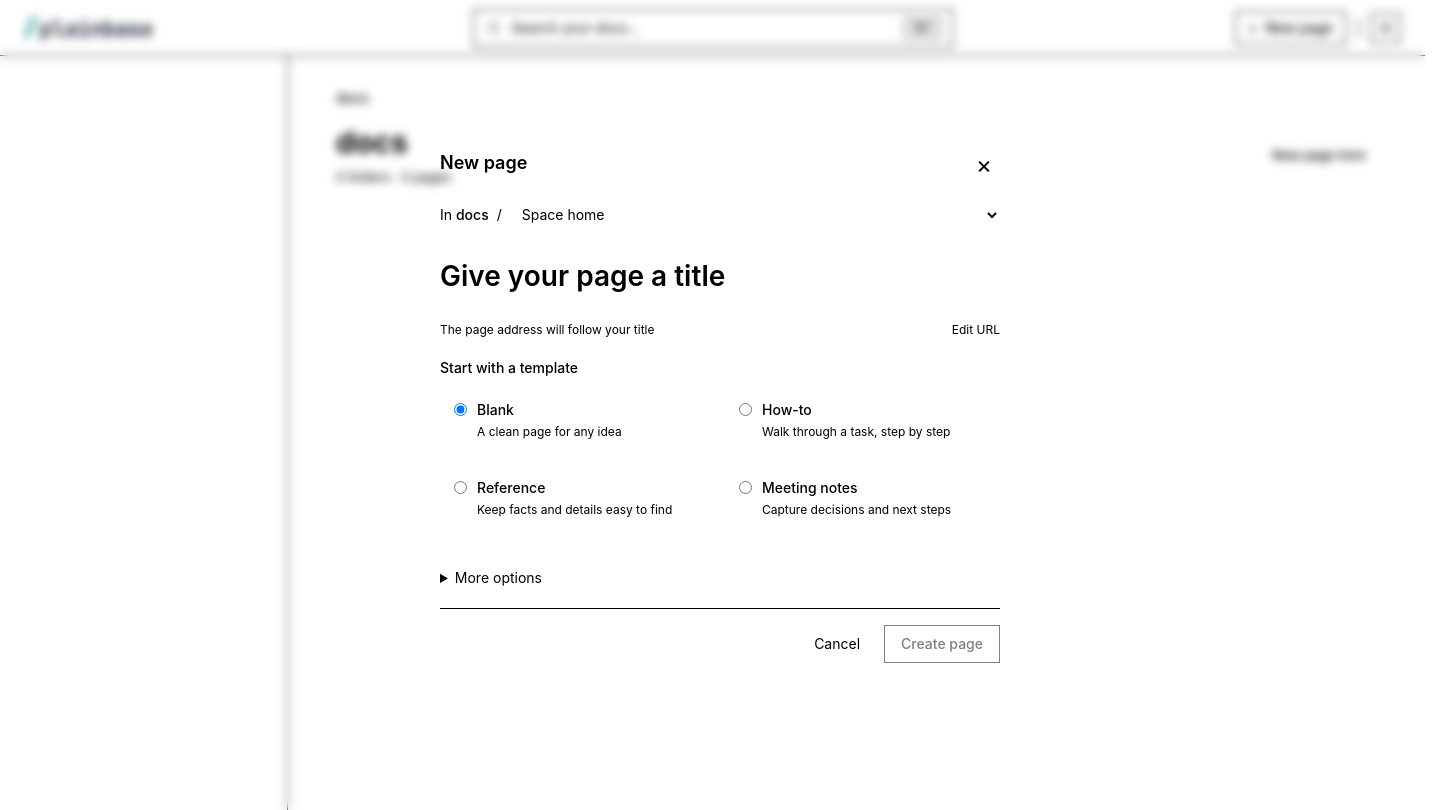
Test: W6 new-page creation › a created-but-unindexed 201 shows the warning and does NOT navigate into a maybe-404 route (FIX 3)
Expected: the element that starts with "New page" is shown, top-left (440, 147), bottom-right (1000, 663)
Type "My New Page" into the field with placeholder "Give your page a title" at (720, 276), box top-left (440, 251), bottom-right (1000, 302)
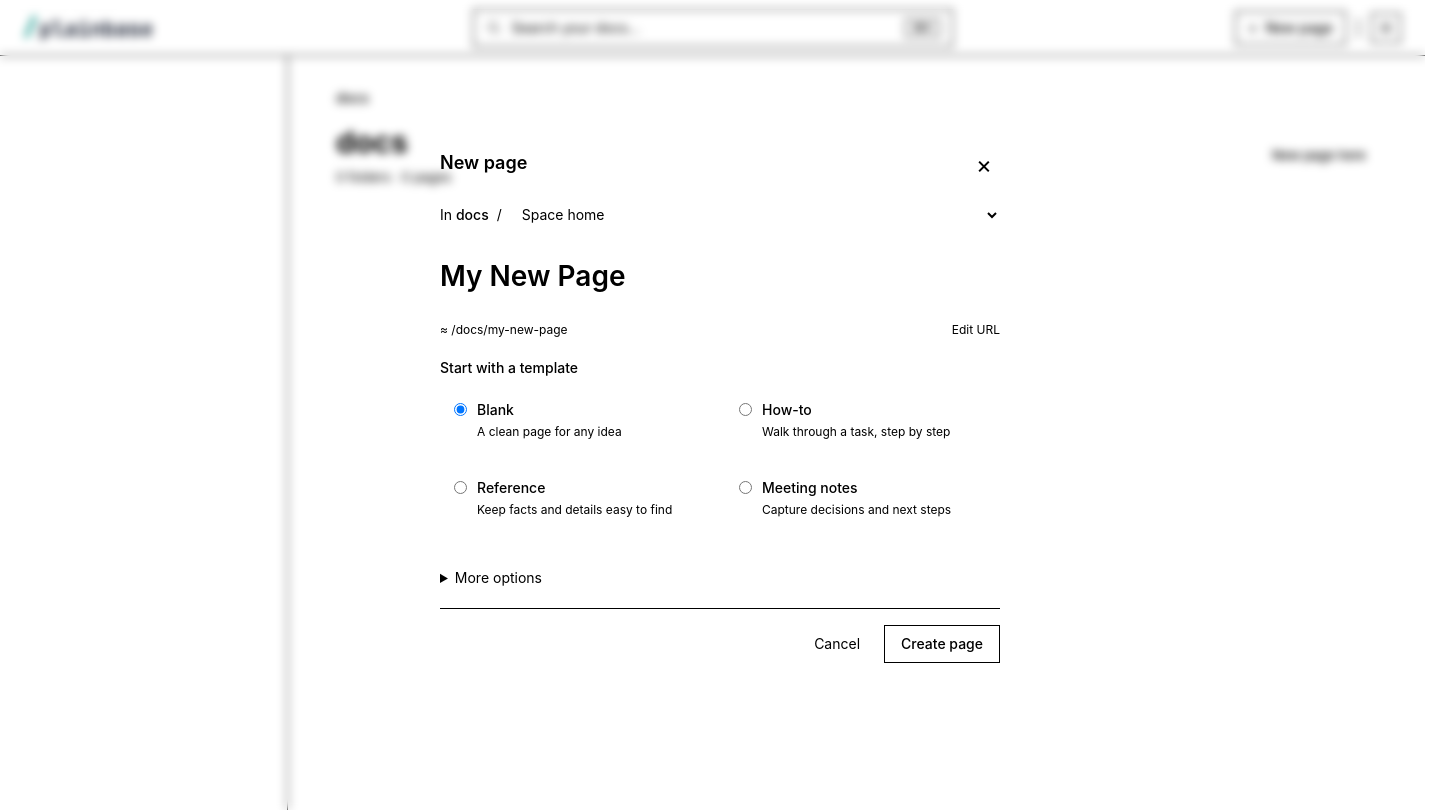
Click the button "Create page" at (942, 644), box top-left (884, 625), bottom-right (1000, 663)
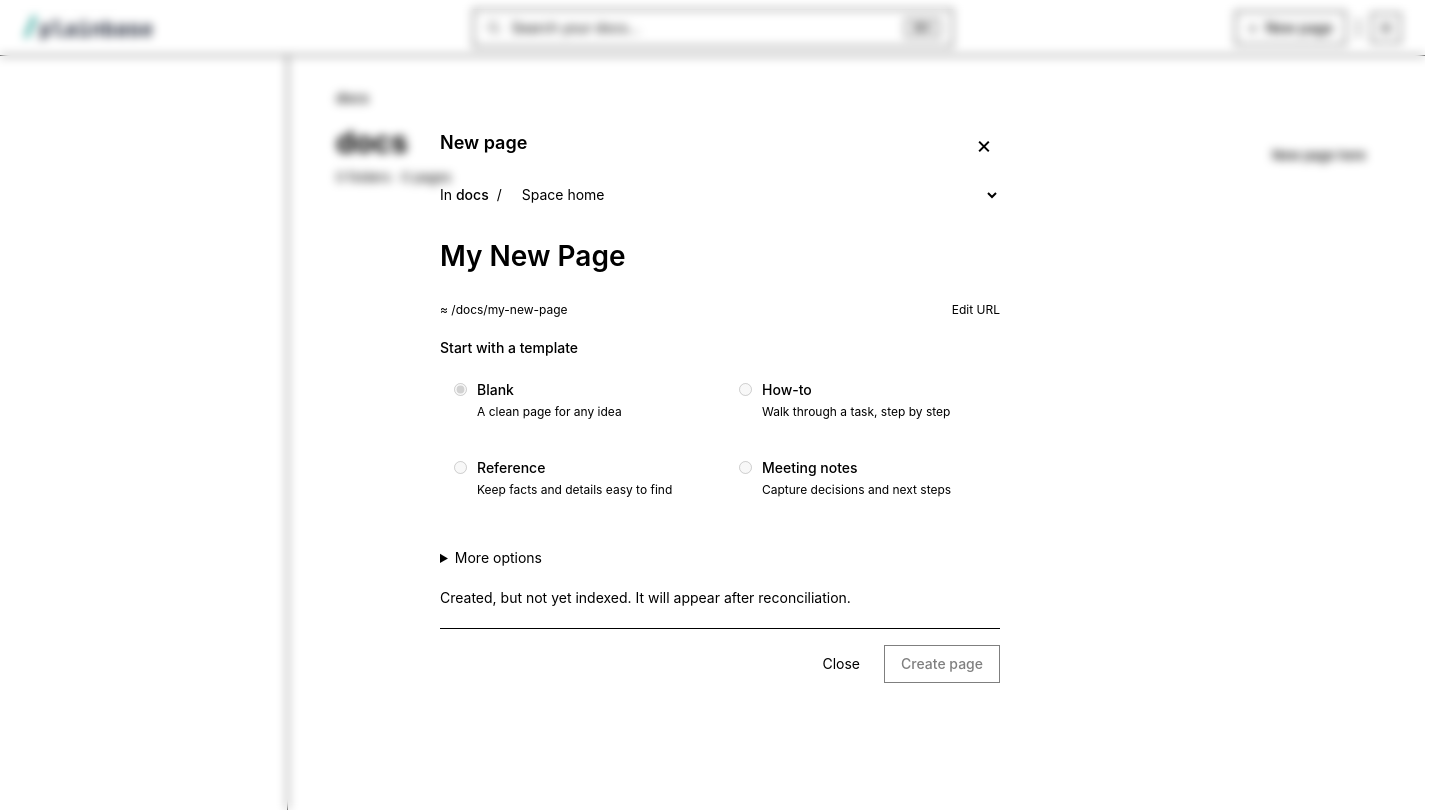
Expected: the message "Created, but not yet indexed. It will appear after reconciliation." is shown, top-left (440, 589), bottom-right (851, 606)
Expected: the button "Create page" is disabled, top-left (884, 645), bottom-right (1000, 683)
